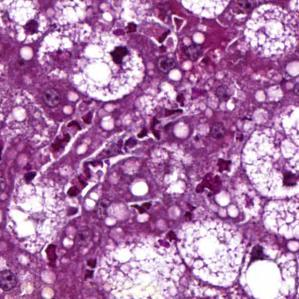ballooning: (65, 33, 149, 106), (175, 217, 247, 290), (239, 123, 295, 206)
